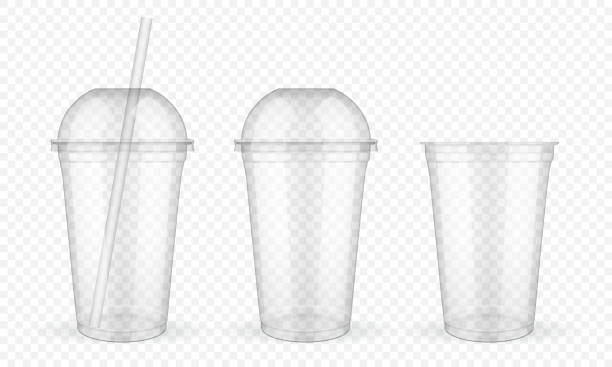plastic_glass: (46, 86, 207, 349), (229, 84, 388, 348), (411, 136, 570, 350)
